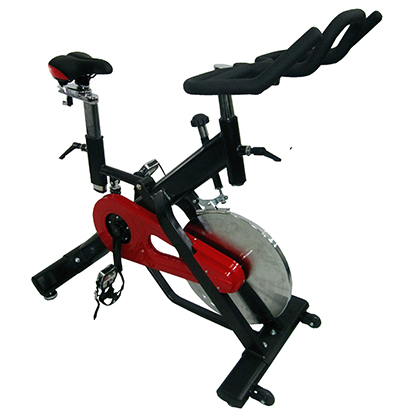gym_bike: (26, 12, 390, 409)
